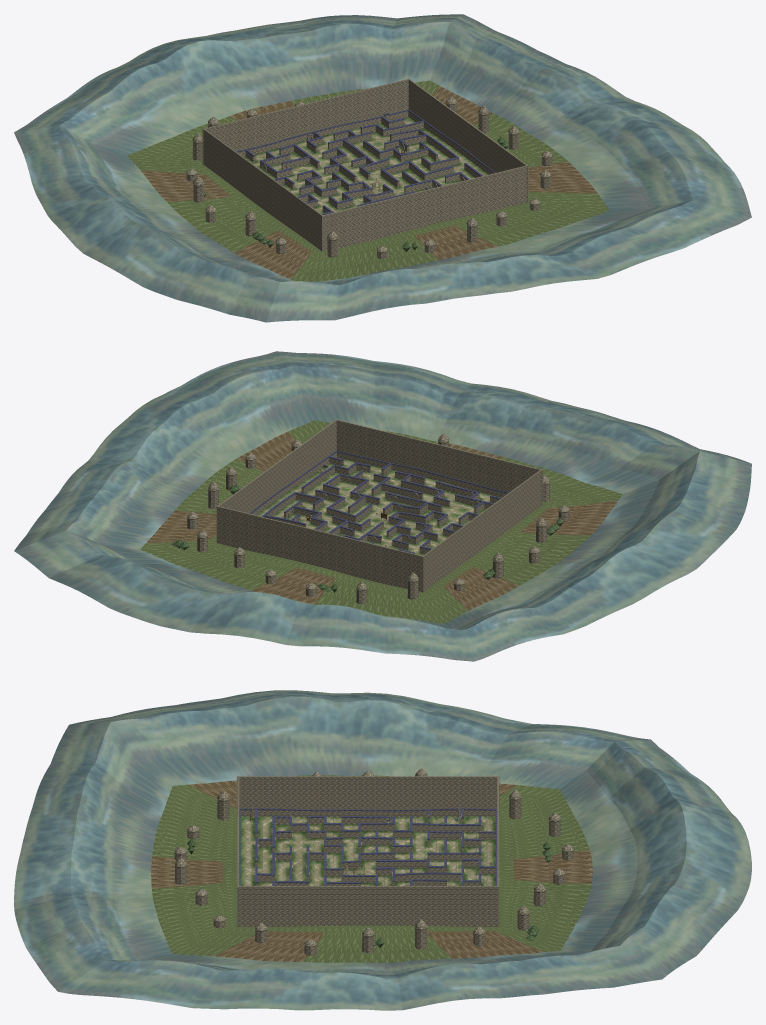
Rendered from RainCourt.fbx.
3 views of the same model, one above another, from view 1: azimuth 30°, elevation 25°; view 2: azimuth 150°, elevation 25°; view 3: azimuth 270°, elevation 25° (orthographic). The views are drawn at different scales.
Parts seen in each view (by area): view 1: Surroundings, C_Solids, Rim, Terrain, Horizon, Set; view 2: Surroundings, C_Solids, Rim, Terrain, Horizon, Set; view 3: Surroundings, C_Solids, Rim, Terrain, Horizon, Set.
Part boxes in pixels (x1,y1,x2,y2): Surroundings: (14, 14, 751, 322); C_Solids: (202, 78, 528, 251); Rim: (236, 109, 495, 214); Terrain: (244, 117, 488, 213); Horizon: (186, 92, 552, 258); Set: (253, 113, 464, 201); Surroundings: (14, 351, 751, 661); C_Solids: (216, 419, 542, 592); Rim: (249, 450, 508, 554); Terrain: (257, 457, 491, 555); Horizon: (187, 433, 569, 603); Set: (286, 465, 479, 546); Surroundings: (14, 690, 751, 1010); C_Solids: (237, 776, 499, 926); Rim: (239, 808, 497, 885); Terrain: (240, 816, 495, 885); Horizon: (174, 768, 574, 955); Set: (250, 806, 491, 885).
Bounding box in the file's own units: 34505 × 2785 × 34323.
